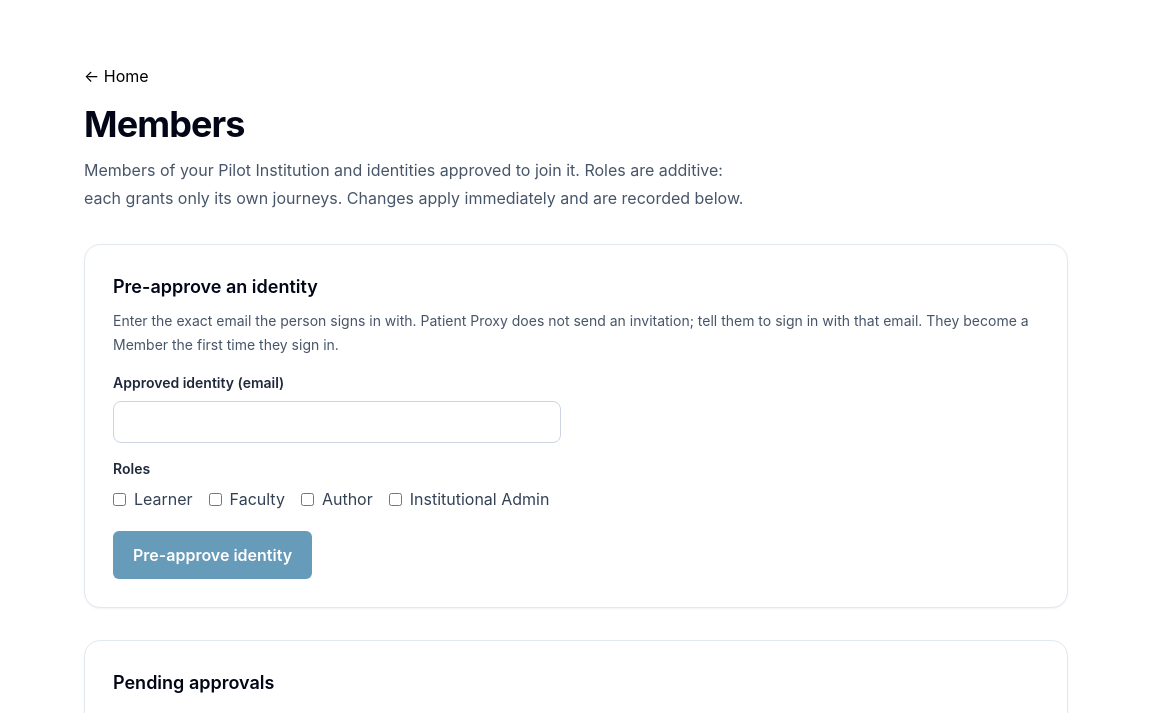
Test: Members page › pre-approves an identity with all four roles, without implying an email is sent
Expected: the text "does not send an invitation" is shown, [113,312,1029,353]
In the field labelled "Approved identity (email)": (337, 422) [113,401,561,443], type "new@example.edu"
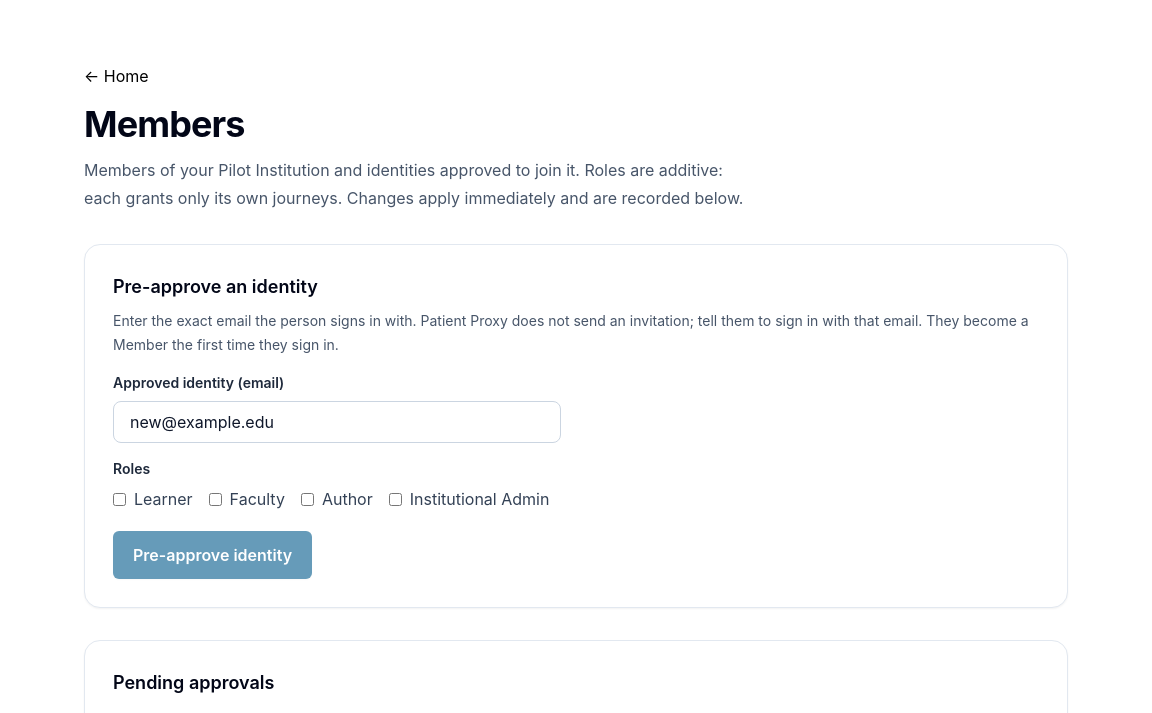
Click the checkbox labelled "Learner": (120, 499) [113,492,126,506]
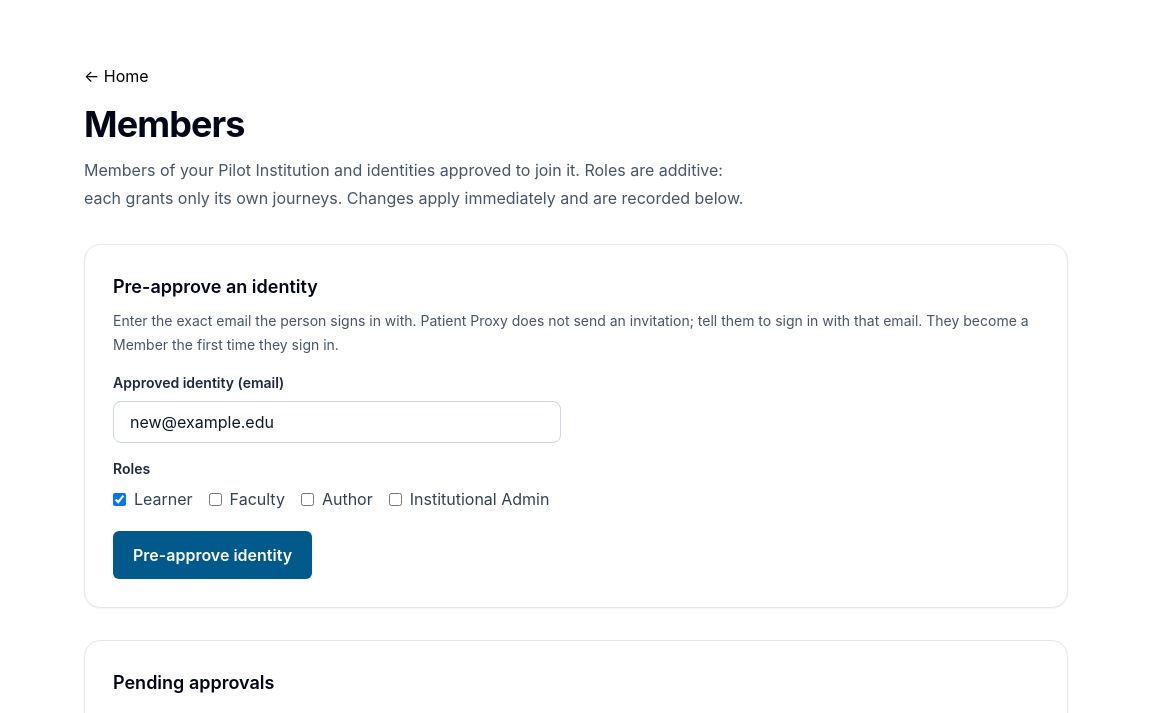
Click the checkbox labelled "Faculty": (215, 499) [209,492,222,506]
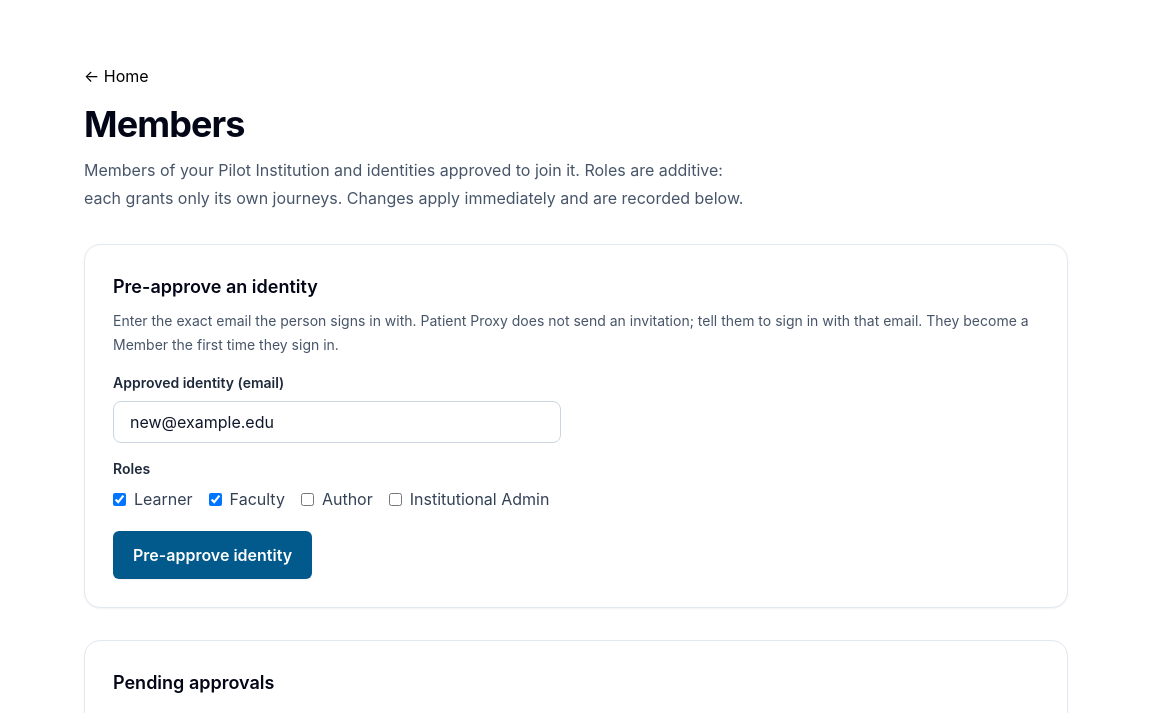
Click the checkbox labelled "Author": (307, 499) [301,492,314,506]
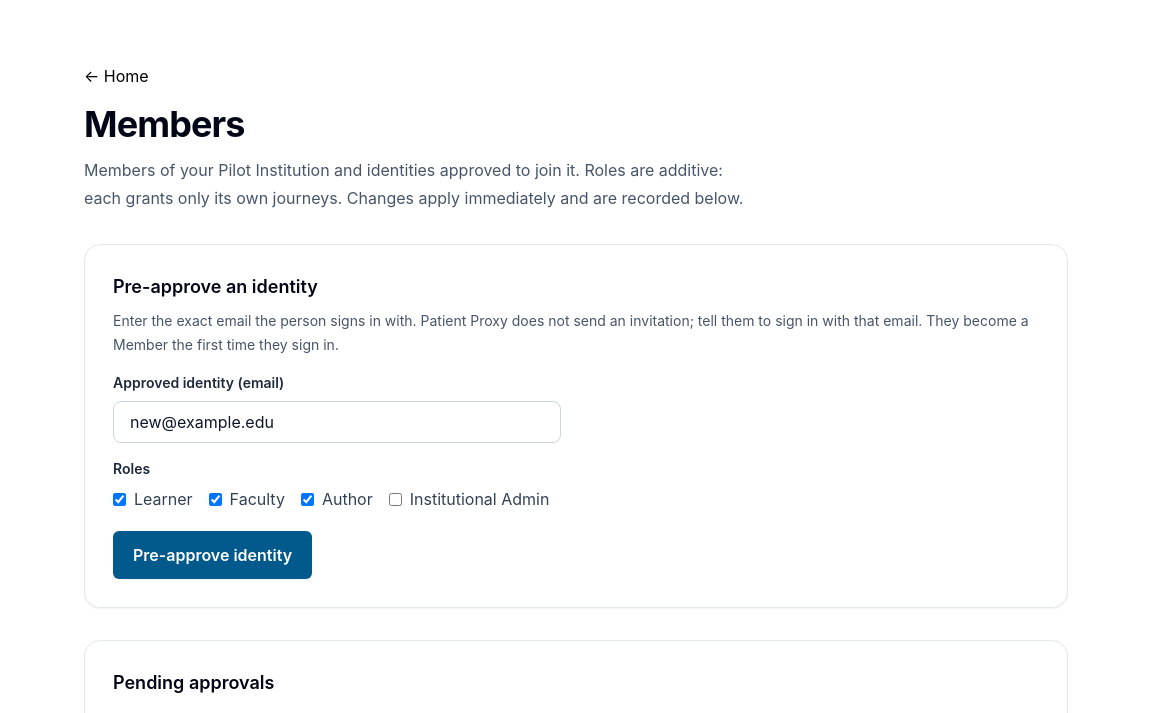
Click the checkbox labelled "Institutional Admin": (395, 499) [389,492,402,506]
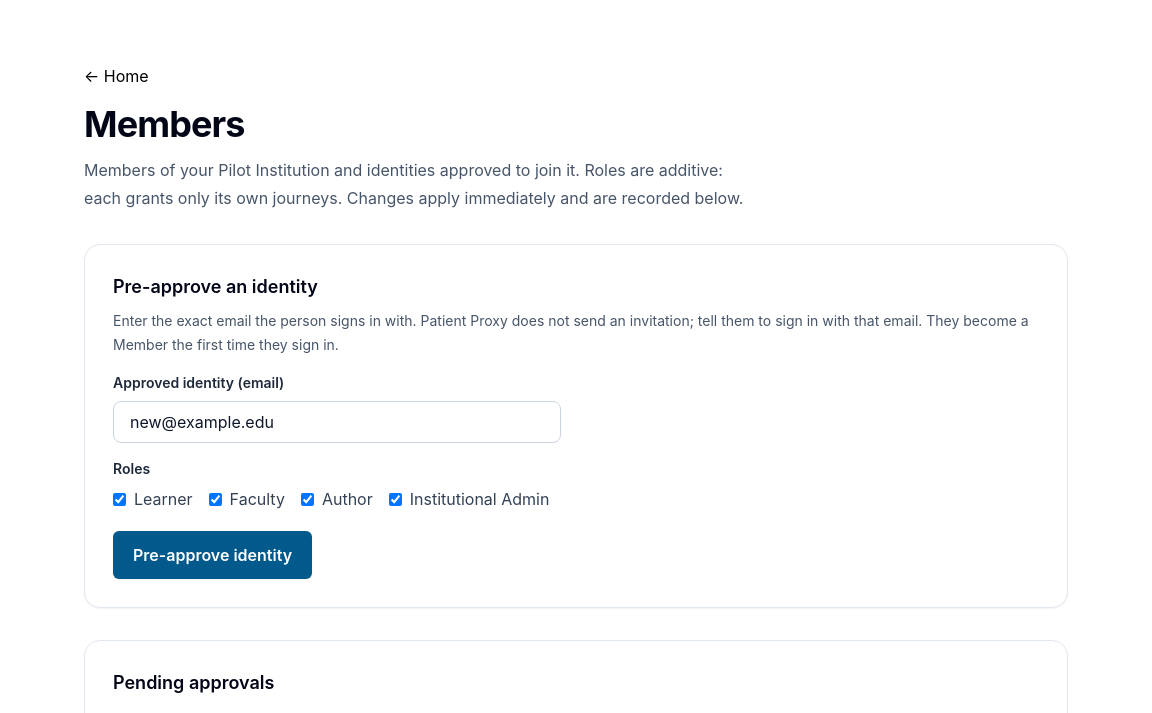
Click the button "Pre-approve identity": (213, 555) [113,531,312,579]
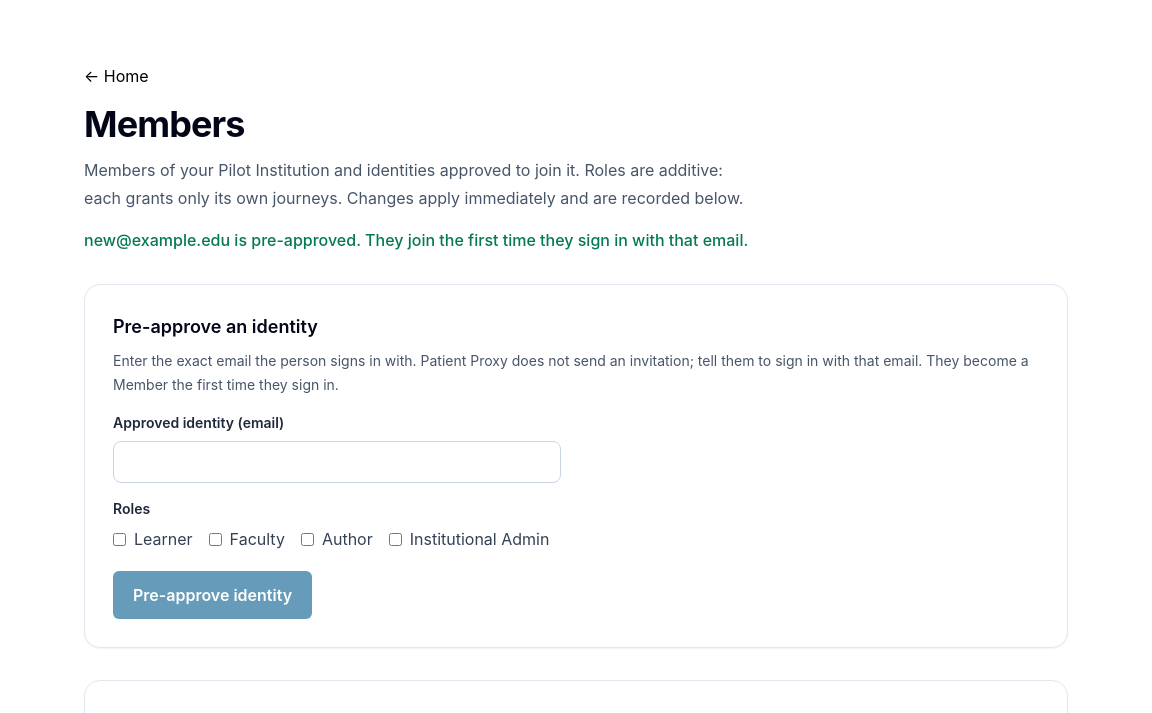
Now the message shows "is pre-approved", box [84,230,748,250]
